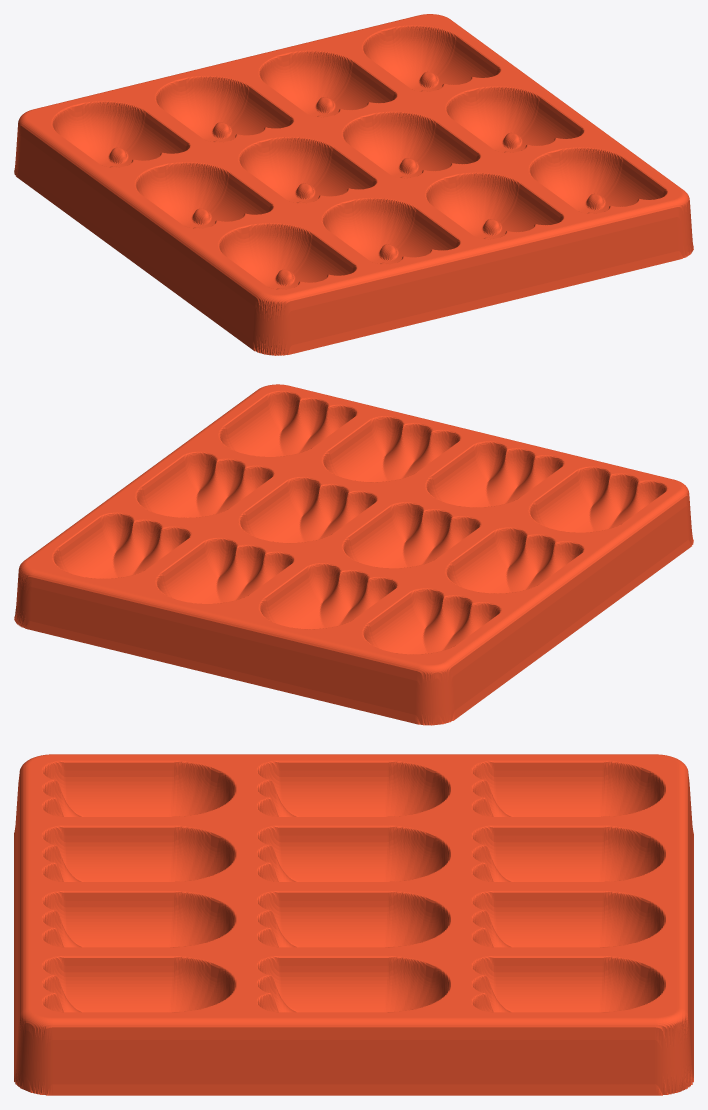
Rendered from mold.glb.
The picture shows the model from 3 angles, top to bottom: view 1: azimuth 30°, elevation 25°; view 2: azimuth 150°, elevation 25°; view 3: azimuth 270°, elevation 25°; orthographic projection. The views are drawn at different scales.
Parts seen in each view (by area): view 1: geometry_0; view 2: geometry_0; view 3: geometry_0.
Boxes of the visible parts, x1,y1,x2,y2 form: geometry_0: (14, 14, 693, 355); geometry_0: (14, 384, 693, 725); geometry_0: (14, 754, 693, 1095).
Bounding box in the file's own units: 0.1531 × 0.0185 × 0.1598.
